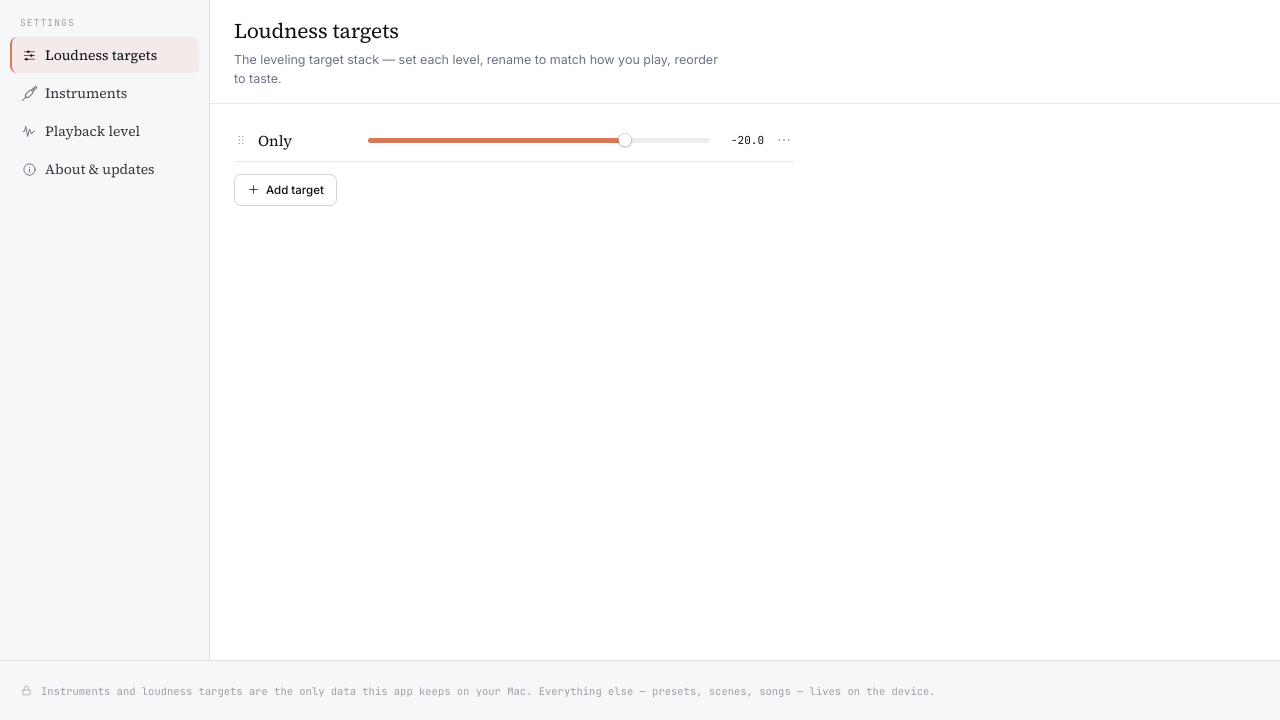
SettingsView — loudness targets › shows the empty state once every target is deleted
expect the text "Only" is shown: met, box [258,130,292,150]
Click the element titled "More": click(784, 140) [776,132,792,148]
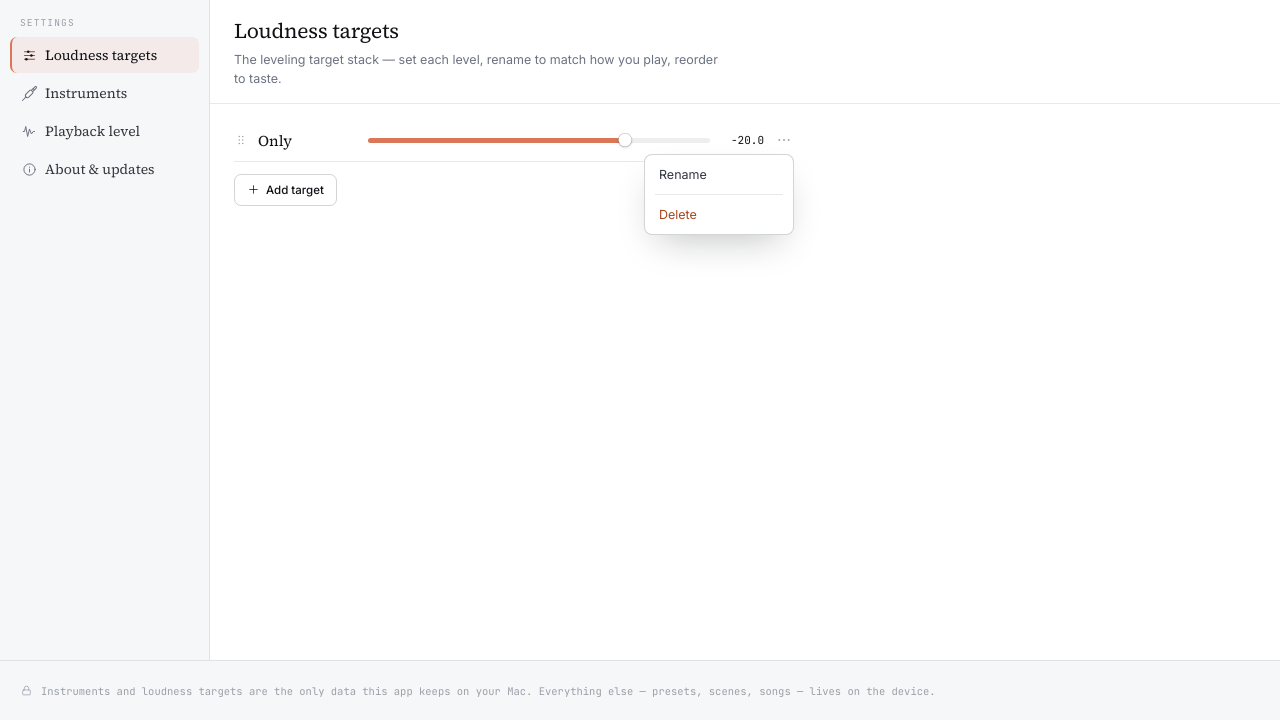
Click the menu item "Delete": click(678, 214) [659,207,697,222]
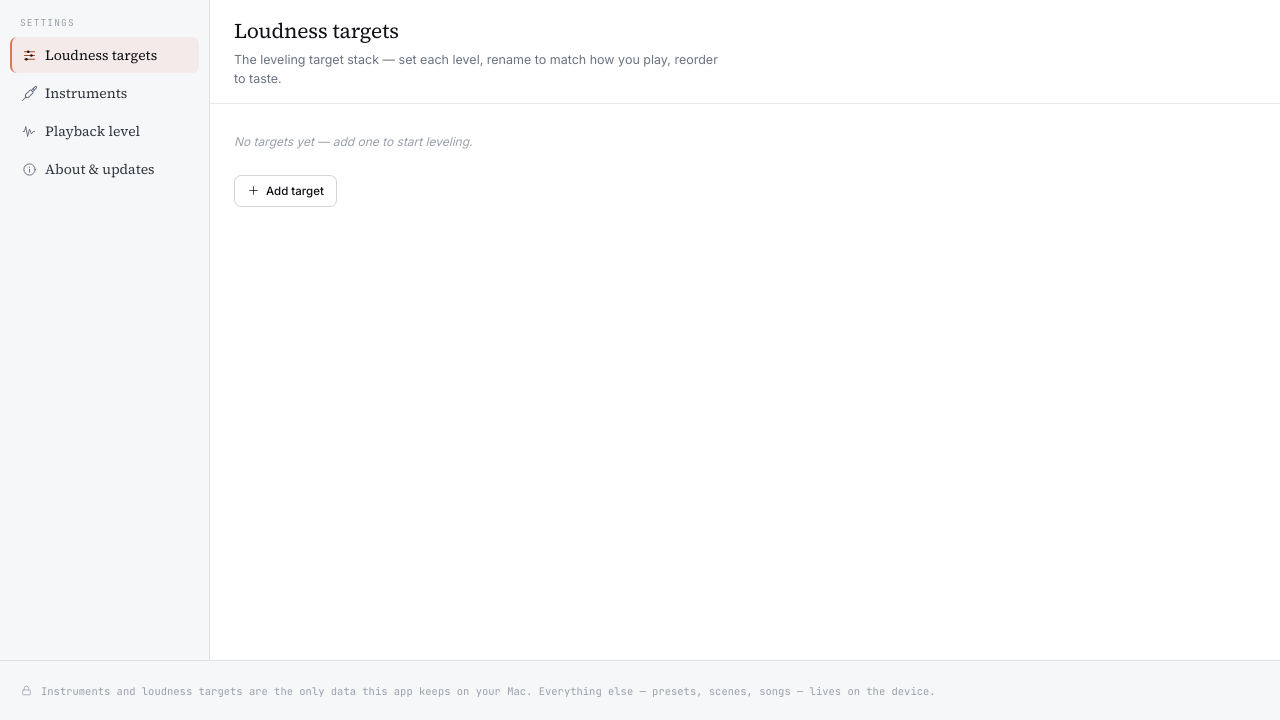
expect the text "No targets yet — add one to start leveling." is shown: met, box [234,134,472,148]
